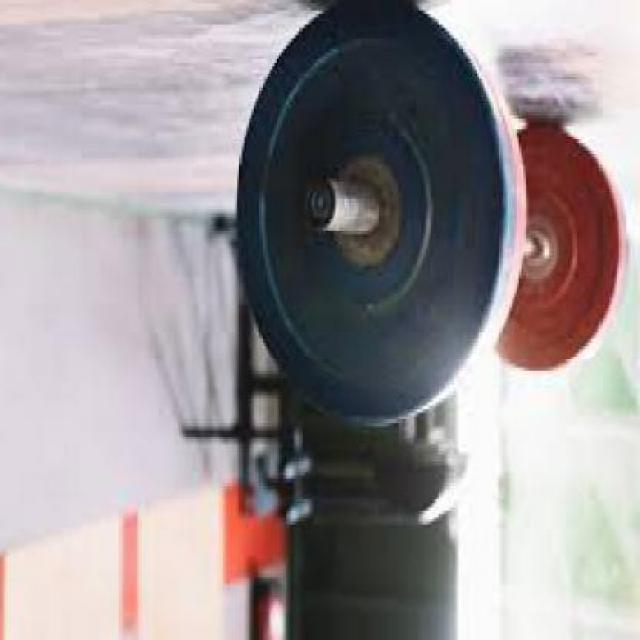Barbell: (300, 165, 345, 252)
